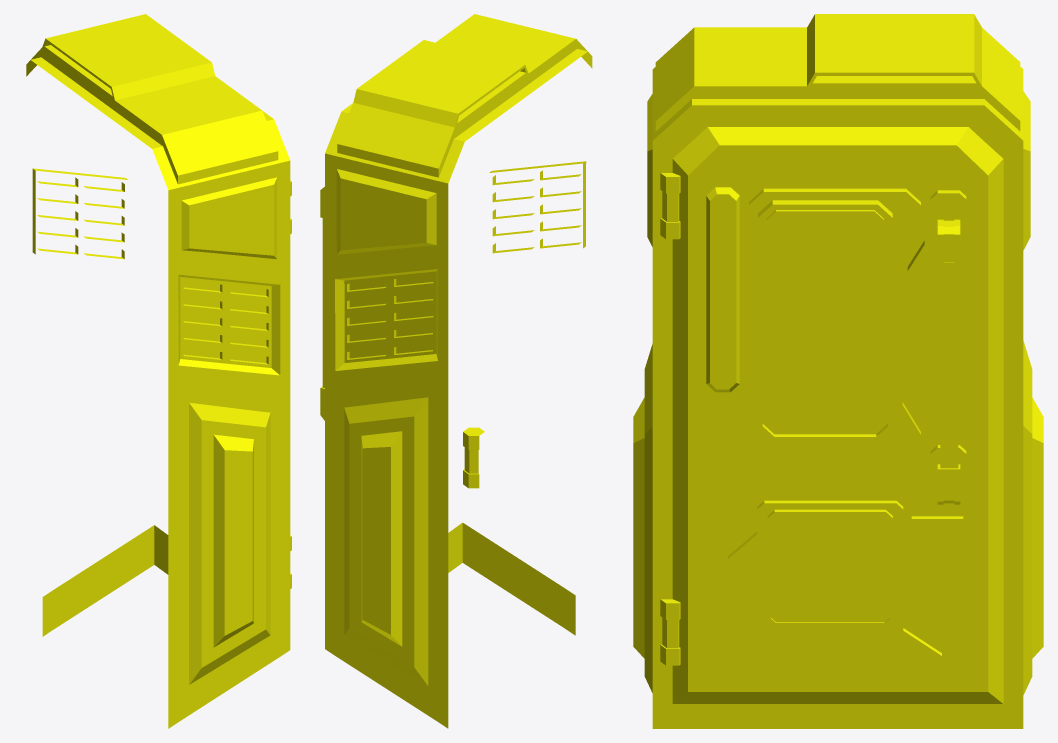
Rendered from SM_Wall_remote_control.glb.
3 views of the same model, side by side, from view 1: azimuth 30°, elevation 25°; view 2: azimuth 150°, elevation 25°; view 3: azimuth 270°, elevation 25° (orthographic). The views are drawn at different scales.
Parts seen in each view (by area): view 1: SM_Wall_remote_control; view 2: SM_Wall_remote_control; view 3: SM_Wall_remote_control.
Part boxes in pixels (x1=…): SM_Wall_remote_control: x1=26, y1=14, x2=291, y2=728; SM_Wall_remote_control: x1=320, y1=14, x2=592, y2=728; SM_Wall_remote_control: x1=633, y1=14, x2=1043, y2=728.
Bounding box in the file's own units: 0.2072 × 0.7649 × 0.4011.
1 material, 1 textured.
